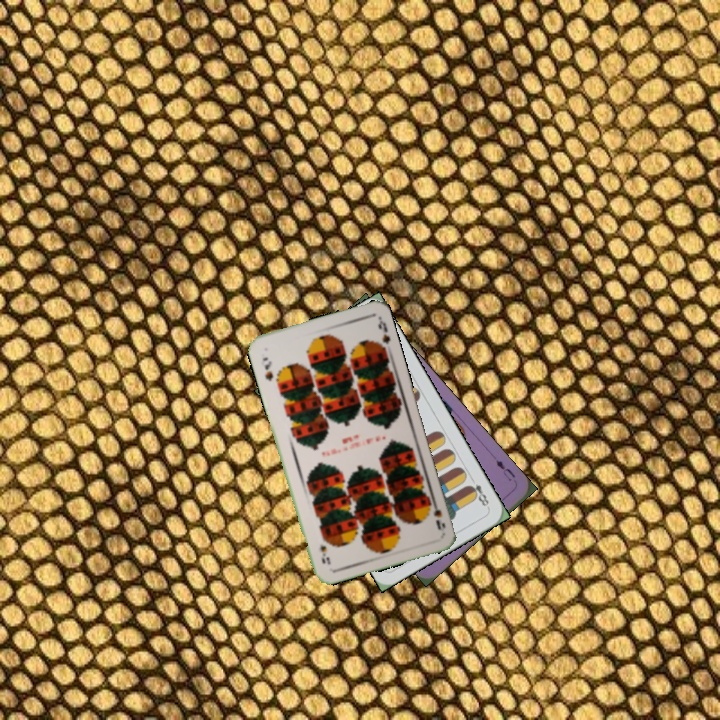E8: (464, 473, 492, 511)
EU: (491, 456, 518, 484)
S9: (423, 495, 448, 532), (258, 353, 276, 384)
